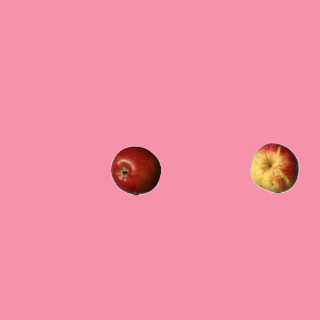Apple Braeburn: (110, 145, 160, 195)
Apple Red Yellow 1: (249, 142, 299, 192)
